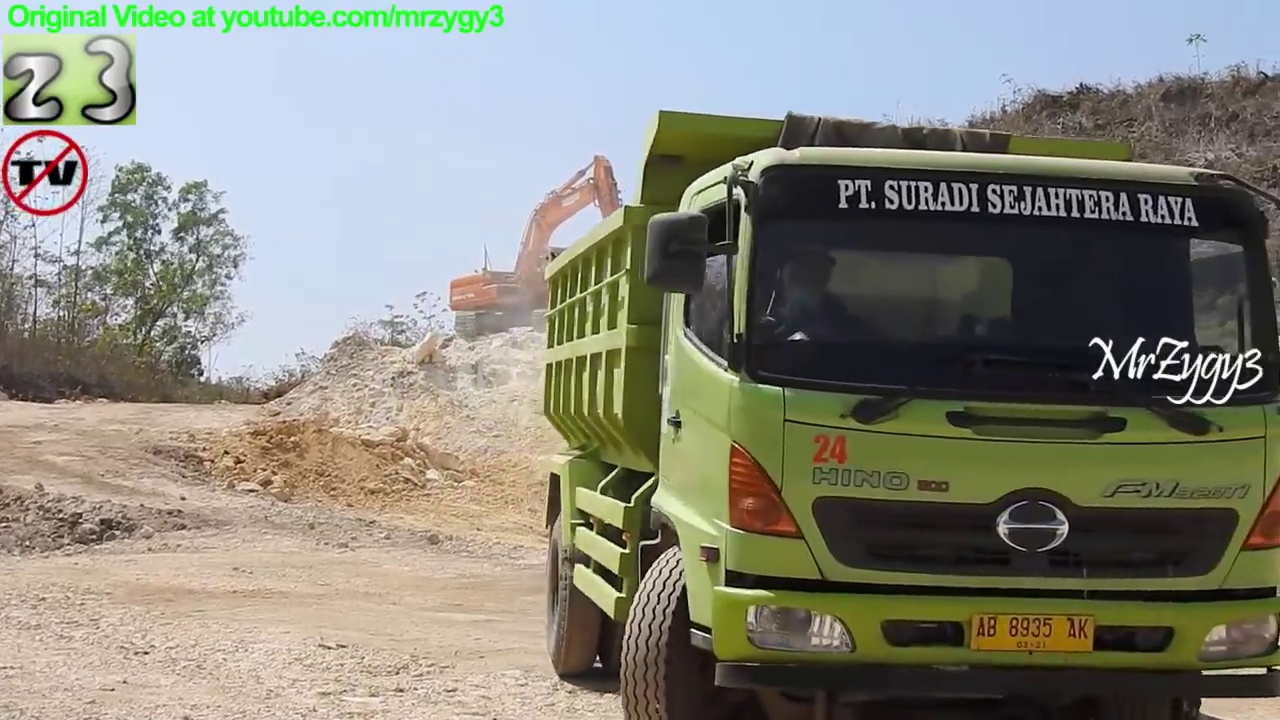excavator: (444, 150, 661, 343)
truck: (530, 99, 1280, 720)
